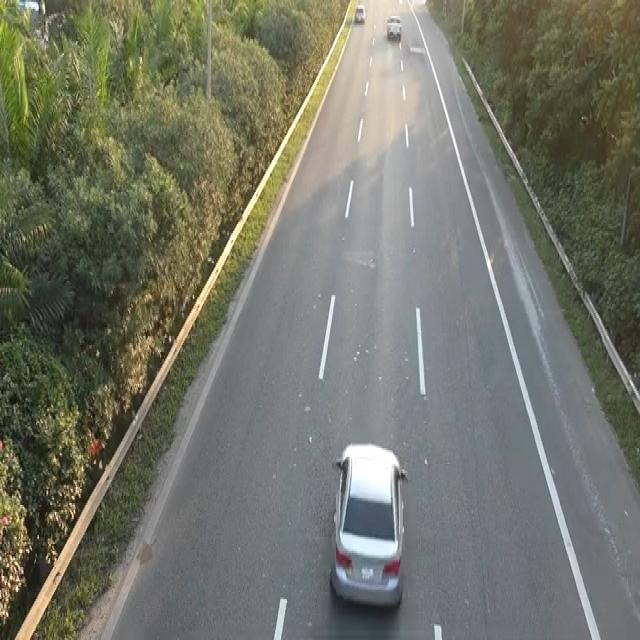bus: (326, 436, 409, 610), (354, 2, 366, 23)
car: (385, 12, 402, 41)
